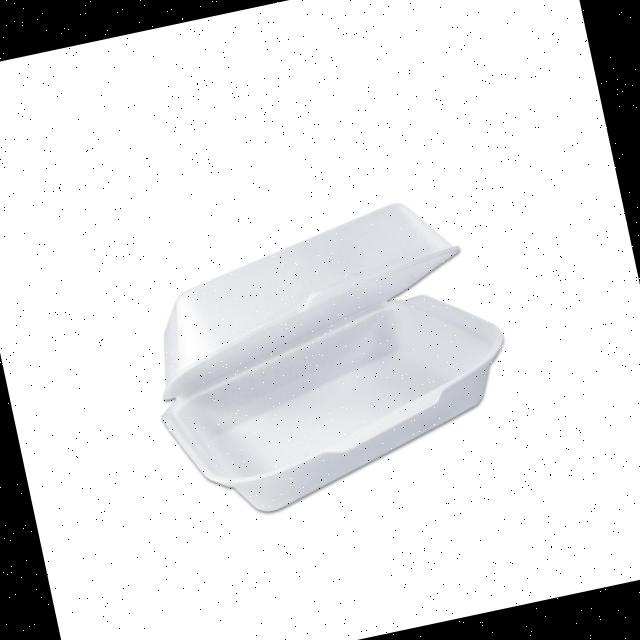styrofoam: (126, 184, 530, 530), (130, 189, 478, 403)
